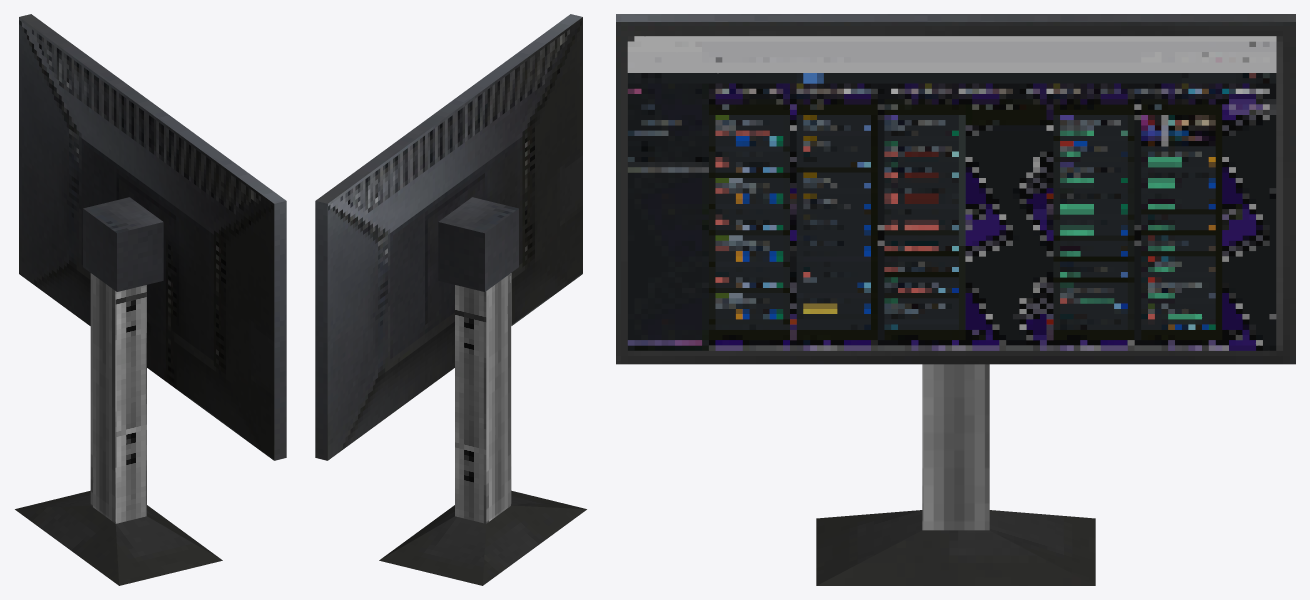
The model's file is computerMonitor.fbx.
3 views of the same model, side by side, from view 1: azimuth 30°, elevation 25°; view 2: azimuth 150°, elevation 25°; view 3: azimuth 270°, elevation 25° (orthographic). The views are drawn at different scales.
Parts seen in each view (by area): view 1: computerMonitor; view 2: computerMonitor; view 3: computerMonitor.
Part boxes in pixels (x1,y1,x2,y2): computerMonitor: [15, 14, 286, 585]; computerMonitor: [315, 14, 586, 585]; computerMonitor: [616, 14, 1295, 585].
Size of the model in its own units: 16.92 by 65.01 by 72.
1 material, 1 textured.
